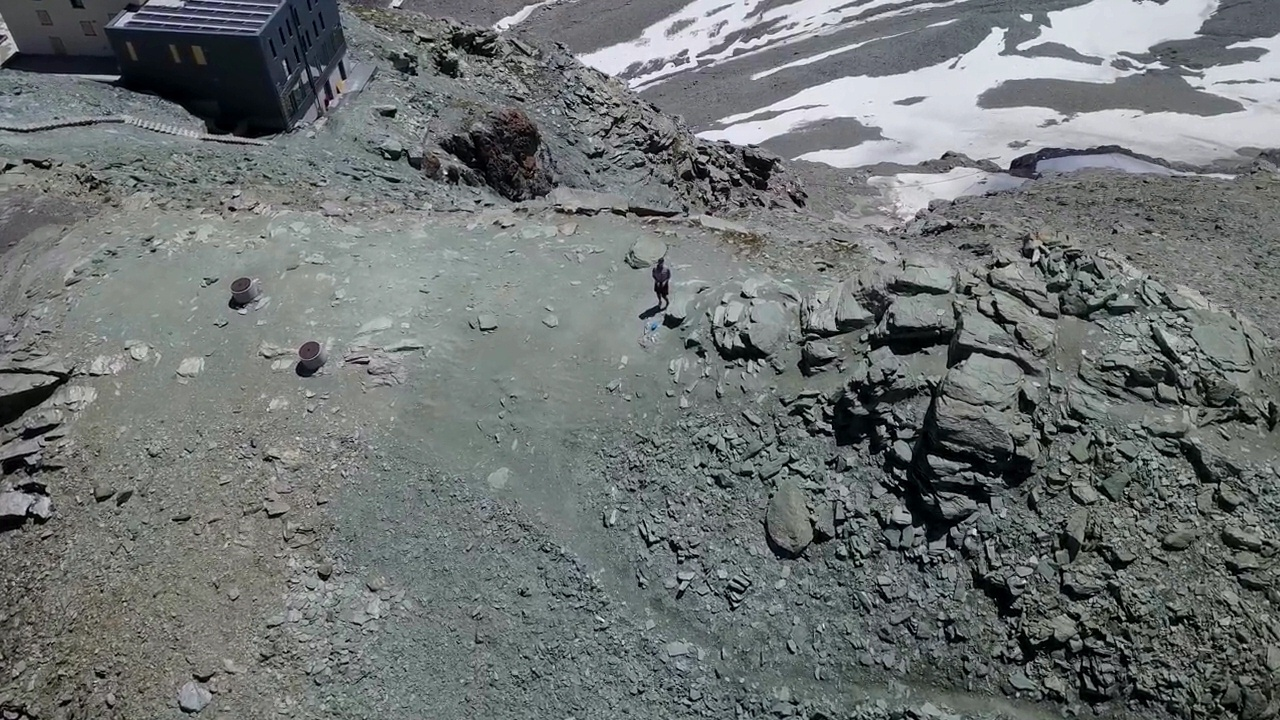insan: (648, 258, 674, 313)
